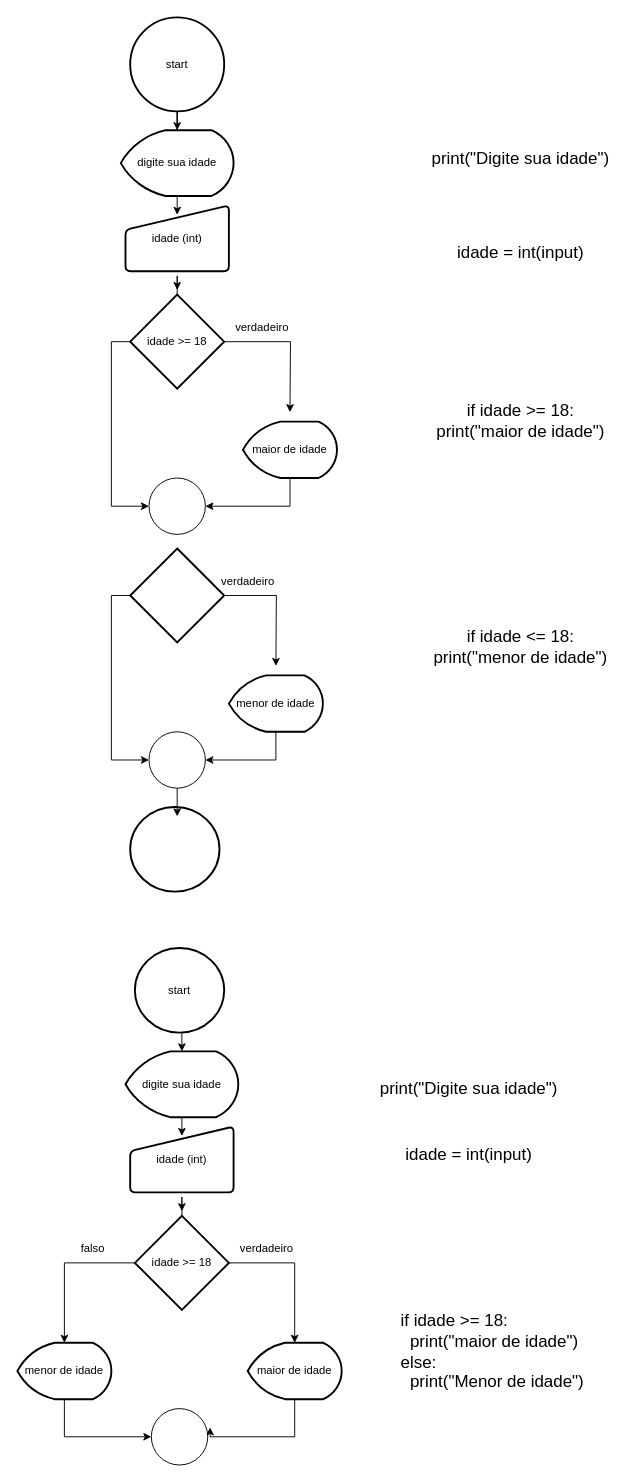
Some shapes in this 630 by 1481 pixel diagram are drawn without their labels. The shapes that lost their labels are listed below. From the top down, each one's centre as x and y in pixels, then its label:
At (x=177, y=595): "idade <= 18".
At (x=174, y=849): "end".
